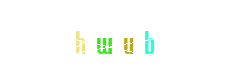B: (108, 0, 188, 80)
H: (64, 0, 144, 80)
U: (80, 0, 160, 80)
W: (64, 0, 144, 80)
